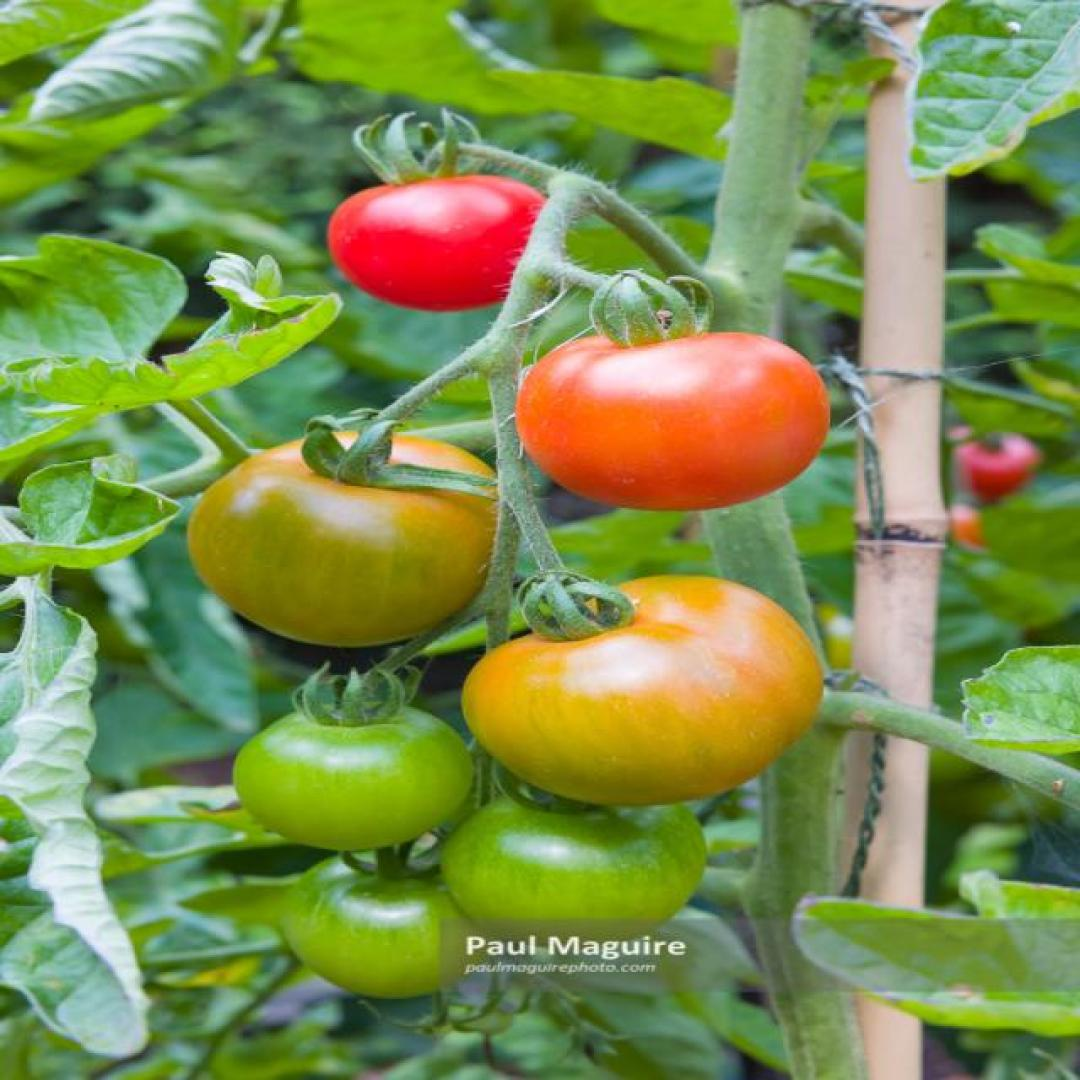matang: (321, 172, 562, 311)
mentah: (435, 780, 714, 945), (226, 698, 474, 854), (270, 846, 496, 1000)
setengah_matang: (450, 570, 827, 810), (182, 429, 523, 646), (508, 322, 834, 513)
